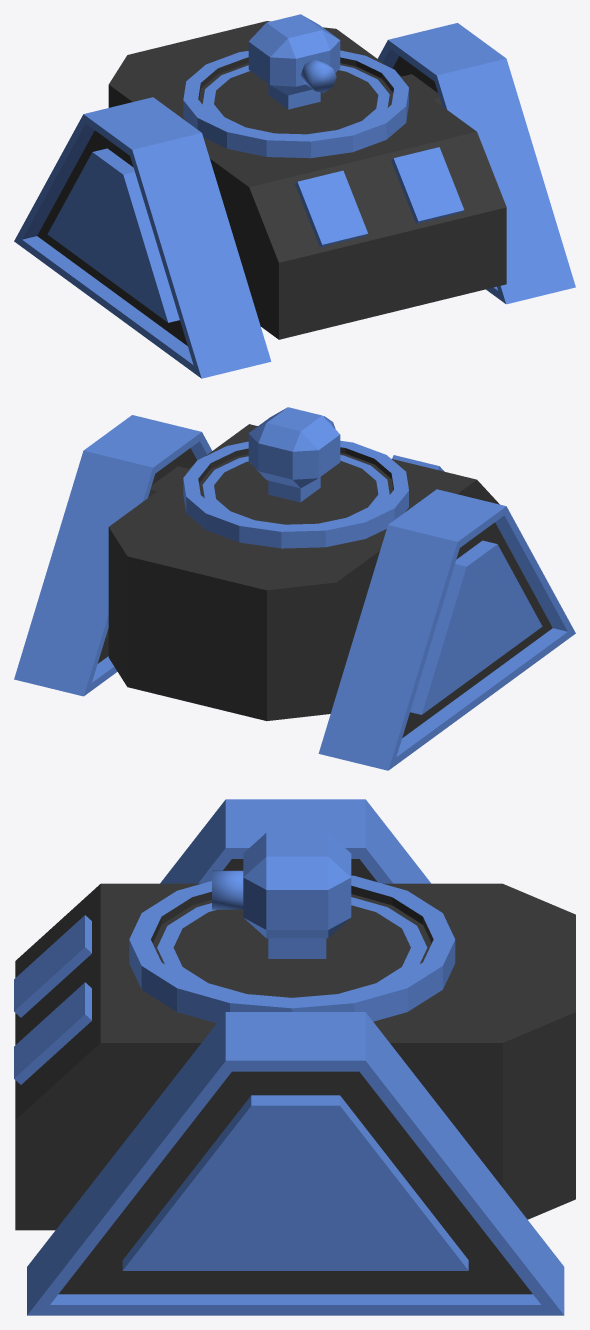
File: Roller.gltf
3 renders of one model, top to bottom at view 1: azimuth 30°, elevation 25°; view 2: azimuth 150°, elevation 25°; view 3: azimuth 270°, elevation 25°, orthographic. The views are drawn at different scales.
Parts seen in each view (by area): view 1: RollerWheels, RollerBody, RollerConnector, RollerEyes, RollerCannon, Cylinder; view 2: RollerWheels, RollerBody, RollerConnector, RollerCannon; view 3: RollerWheels, RollerBody, RollerConnector, RollerCannon, RollerEyes, Cylinder.
Boxes of the visible parts, x1,y1,x2,y2 form: RollerWheels: (14, 23, 575, 378); RollerBody: (108, 21, 506, 339); RollerConnector: (183, 50, 408, 158); RollerEyes: (295, 147, 464, 247); RollerCannon: (248, 14, 340, 109); Cylinder: (301, 59, 336, 92); RollerWheels: (14, 415, 575, 770); RollerBody: (108, 424, 499, 720); RollerConnector: (183, 440, 408, 548); RollerCannon: (248, 407, 340, 502); RollerWheels: (27, 799, 564, 1315); RollerBody: (15, 883, 575, 1230); RollerConnector: (129, 875, 455, 1023); RollerCannon: (243, 832, 351, 958); RollerEyes: (14, 915, 91, 1084); Cylinder: (212, 870, 243, 909).
Bounding box in the file's own units: 1.35 × 0.8207 × 1.23.
